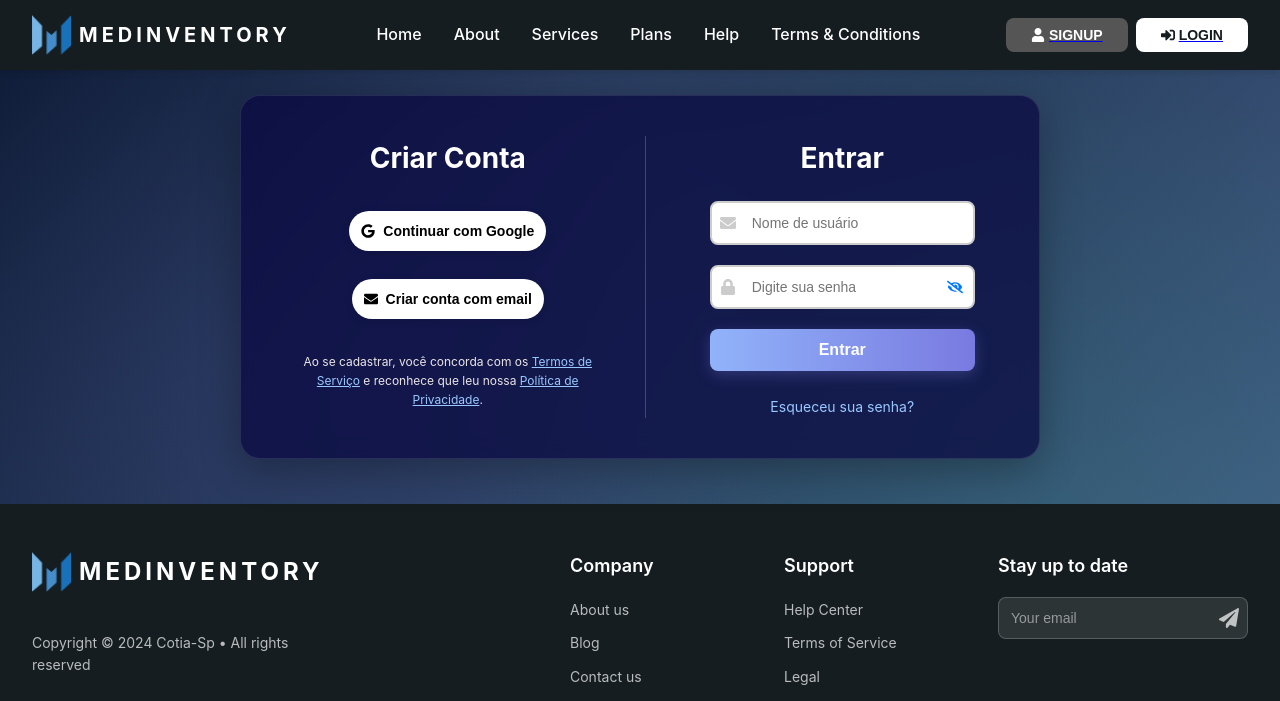
Login Page › Interações do usuário › esconde senha ao clicar novamente no ícone
Type "password123" into the password field with placeholder "Digite sua senha" at [843, 287], box top-left (710, 265), bottom-right (975, 309)
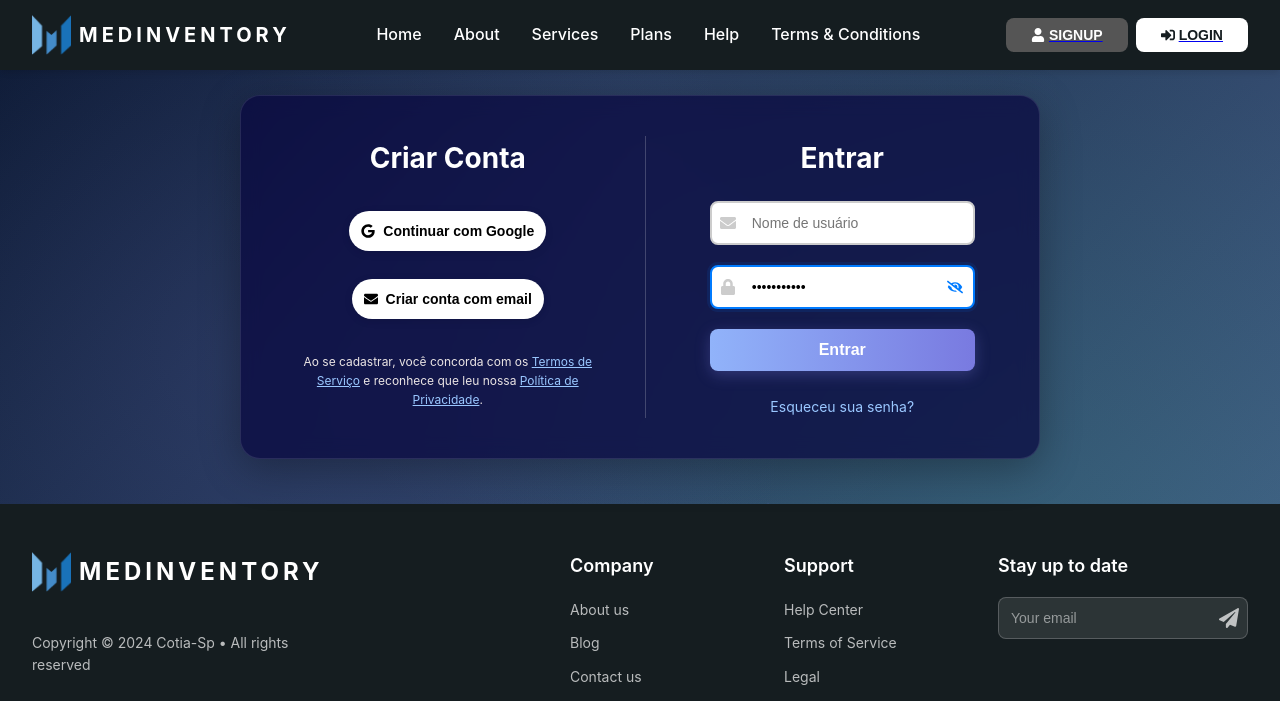
Click the icon with class "toggle-password" at [955, 287], box top-left (947, 279), bottom-right (963, 295)
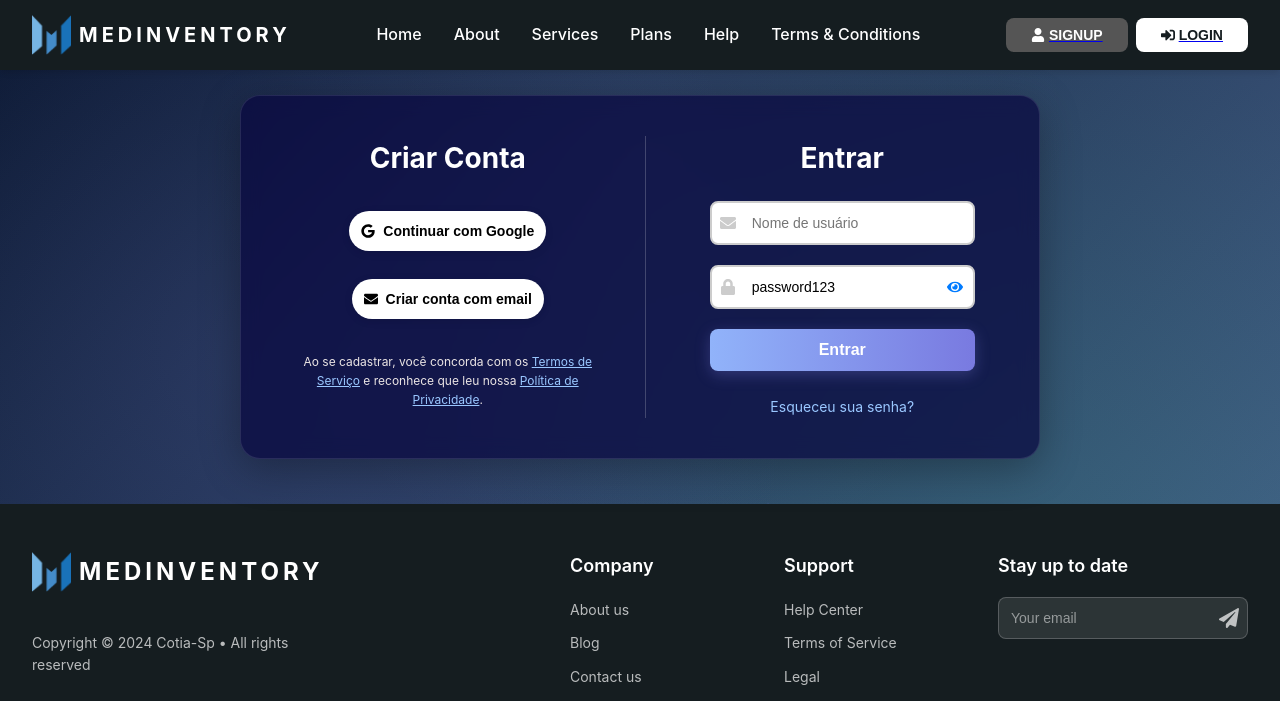
Check: the 2nd field shows its text, box top-left (710, 265), bottom-right (975, 309)
Click the icon with class "toggle-password" at [955, 287], box top-left (947, 279), bottom-right (963, 295)
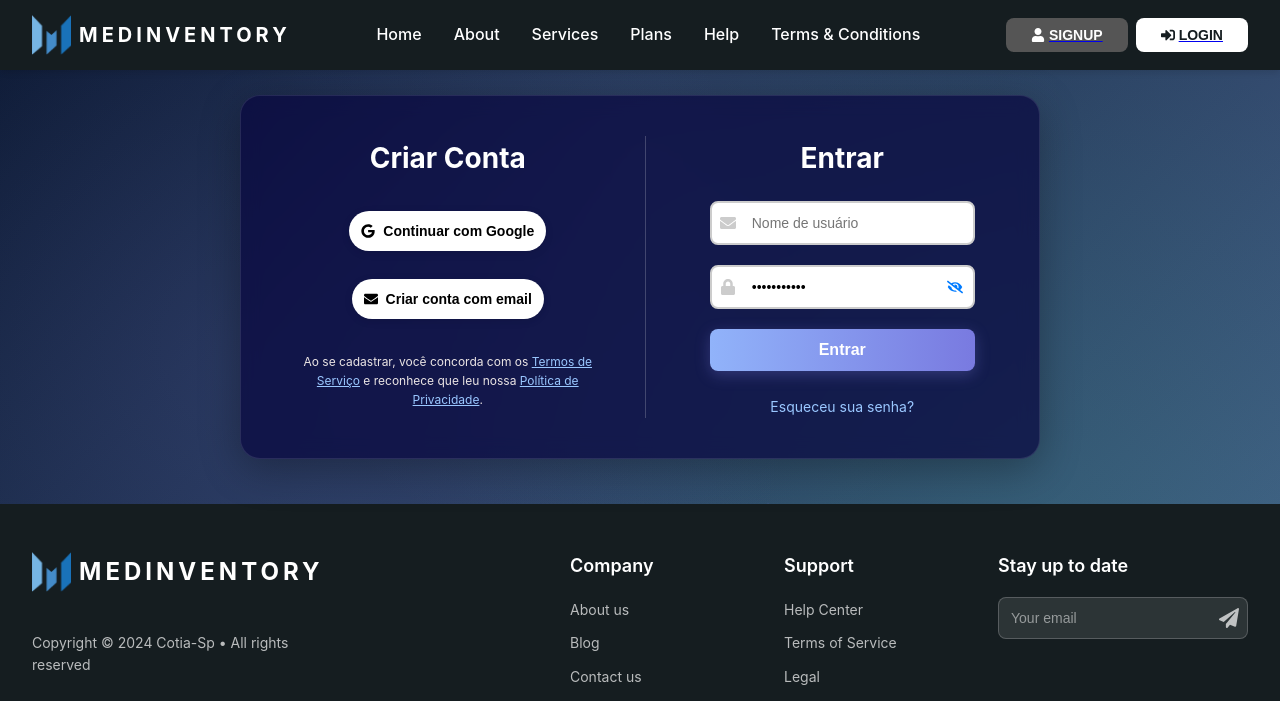
Check: the password field hides its text, box top-left (710, 265), bottom-right (975, 309)
